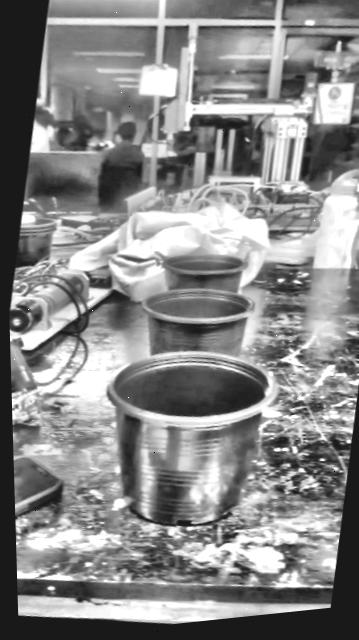pot: (106, 351, 275, 524), (141, 289, 253, 355), (162, 254, 246, 292)
